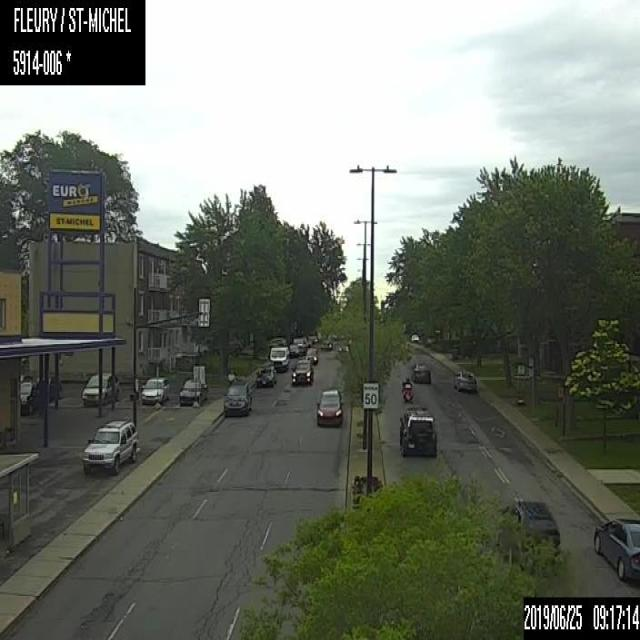vehicle: (80, 420, 138, 474), (593, 517, 639, 584), (504, 499, 559, 542), (399, 404, 436, 456), (81, 372, 119, 404), (315, 384, 343, 425), (223, 381, 254, 416), (178, 376, 207, 406), (141, 376, 170, 405), (36, 374, 61, 404), (20, 380, 39, 416), (291, 358, 313, 384), (268, 346, 290, 372), (452, 368, 476, 390), (254, 365, 276, 387), (410, 361, 430, 383), (400, 374, 414, 404), (288, 342, 306, 357), (304, 346, 319, 364), (293, 336, 312, 348), (267, 336, 286, 345), (320, 338, 332, 349), (408, 333, 419, 341)
